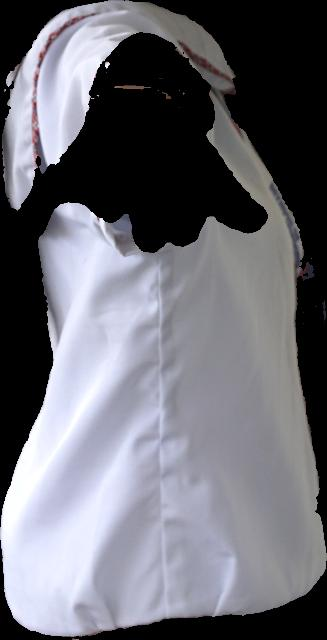pologirl: (0, 0, 326, 636)
